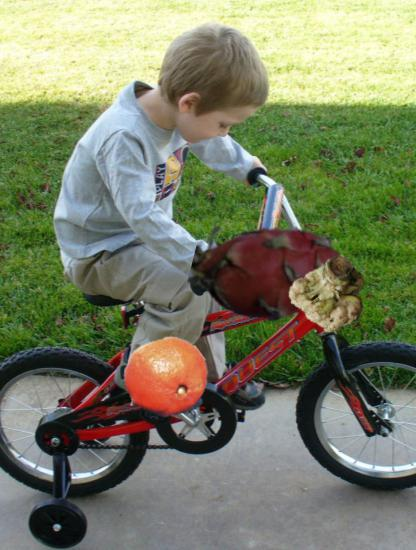Cauliflower: (294, 258, 371, 335)
Clementine: (121, 334, 209, 422)
Pitahaya: (193, 197, 341, 345)
